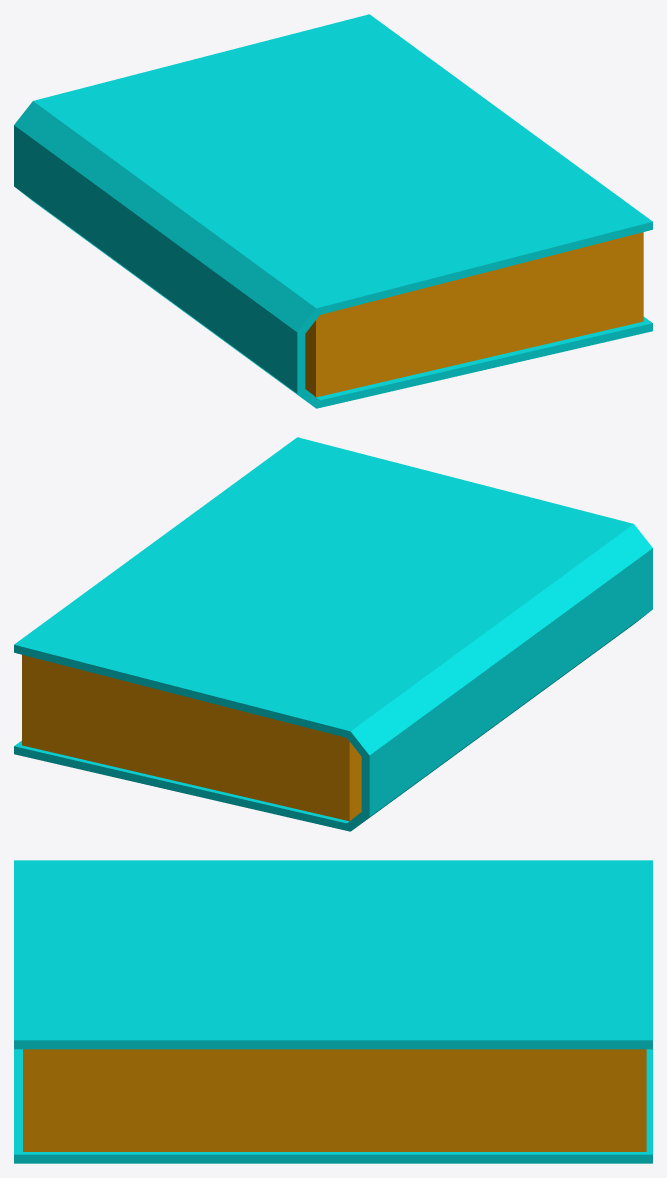
File: Book.fbx
The picture shows the model from 3 angles, top to bottom: view 1: azimuth 30°, elevation 25°; view 2: azimuth 150°, elevation 25°; view 3: azimuth 270°, elevation 25°; orthographic projection. The views are drawn at different scales.
Visible parts, largest first — view 1: Book_mesh; view 2: Book_mesh; view 3: Book_mesh.
Boxes of the visible parts, x1,y1,x2,y2 form: Book_mesh: (14,14,652,408); Book_mesh: (14,437,652,831); Book_mesh: (14,860,652,1163).
Size of the model in its own units: 23.19 by 6.83 by 32.01.
